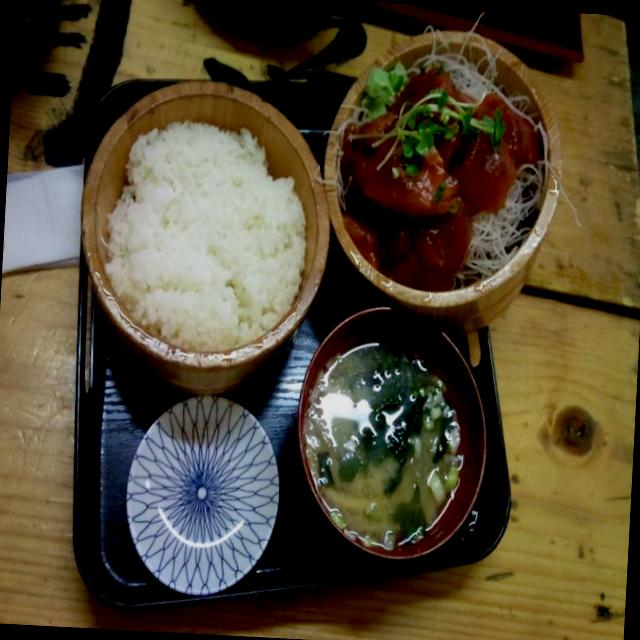Rice: (83, 82, 333, 369)
